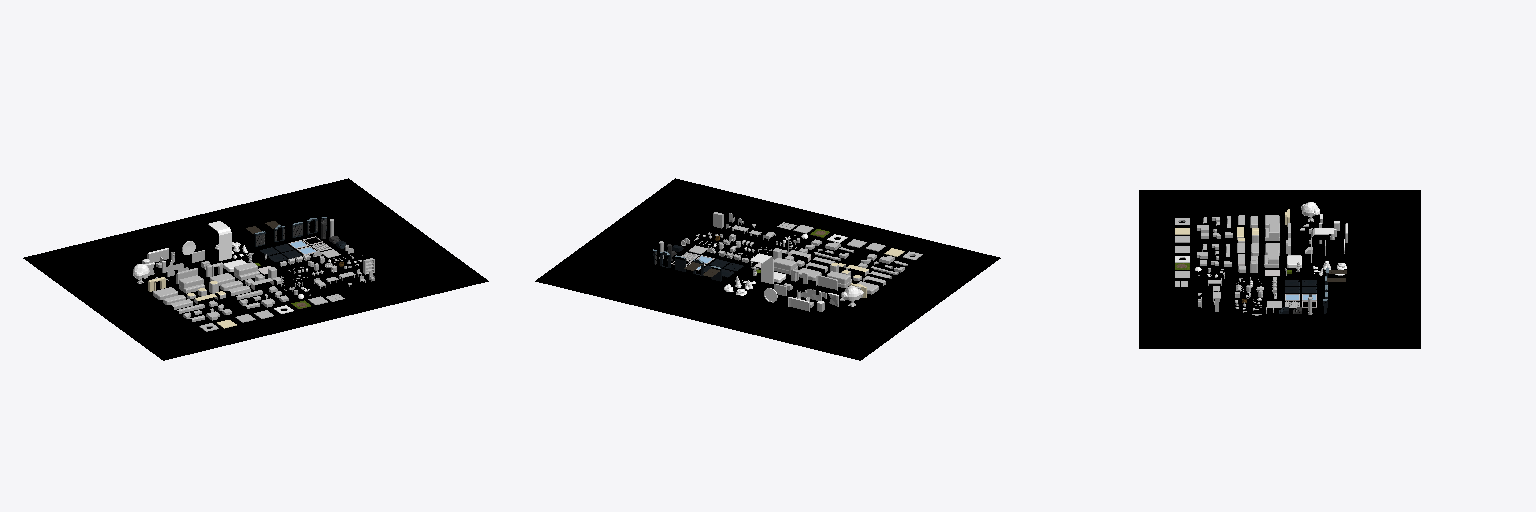
3 views of the same model, side by side, from view 1: azimuth 30°, elevation 25°; view 2: azimuth 150°, elevation 25°; view 3: azimuth 270°, elevation 25° (orthographic).
Parts seen in each view (by area): view 1: Ground_Scene.035, WaterFall_Scene.087; view 2: Ground_Scene.035; view 3: Ground_Scene.035.
Boxes of the visible parts, x1,y1,x2,y2 form: Ground_Scene.035: [23, 178, 488, 360]; WaterFall_Scene.087: [208, 221, 231, 260]; Ground_Scene.035: [535, 178, 1000, 360]; Ground_Scene.035: [1139, 190, 1420, 348].
Size of the model in its own units: 101 by 10.44 by 75.31.
41 materials, 2 textured.